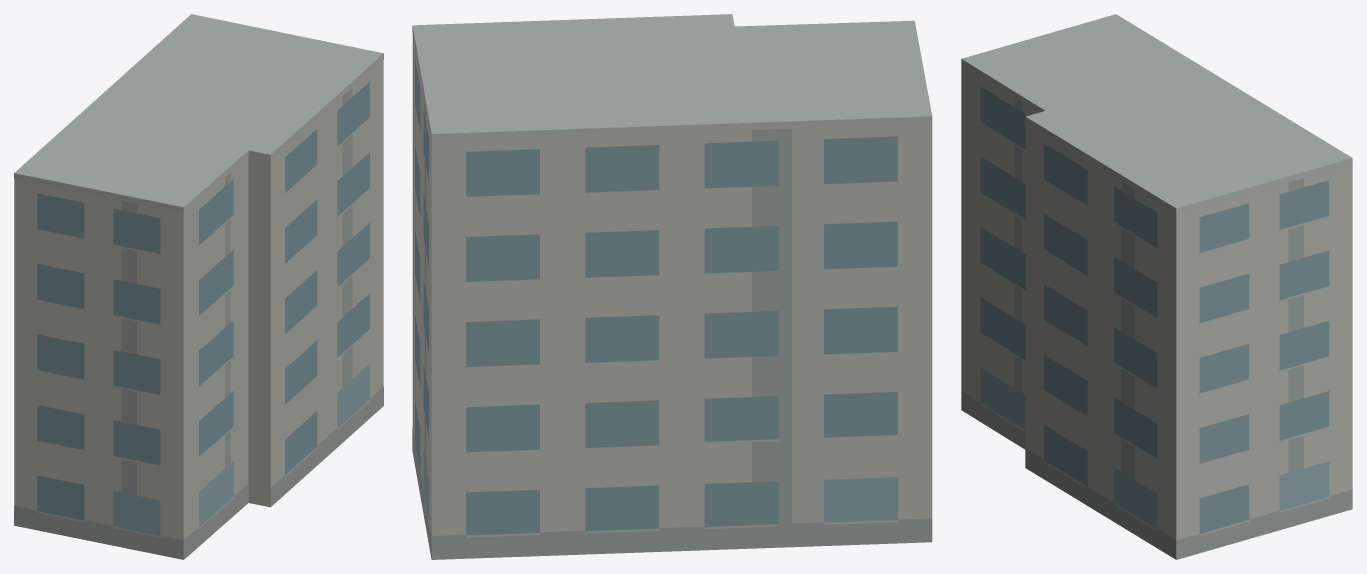
Rendered from survey-upis-32678617.glb.
3 renders of one model, left to right at view 1: azimuth 30°, elevation 25°; view 2: azimuth 150°, elevation 25°; view 3: azimuth 270°, elevation 25°, orthographic. The views are drawn at different scales.
Parts seen in each view (by area): view 1: survey-upis-32678617.tmp; view 2: survey-upis-32678617.tmp; view 3: survey-upis-32678617.tmp.
Boxes of the visible parts, left/top/right/bottom form: survey-upis-32678617.tmp: left=14, top=14, right=383, bottom=559; survey-upis-32678617.tmp: left=412, top=14, right=932, bottom=559; survey-upis-32678617.tmp: left=961, top=14, right=1352, bottom=559.
Size of the model in its own units: 16.69 by 14.05 by 14.18.
